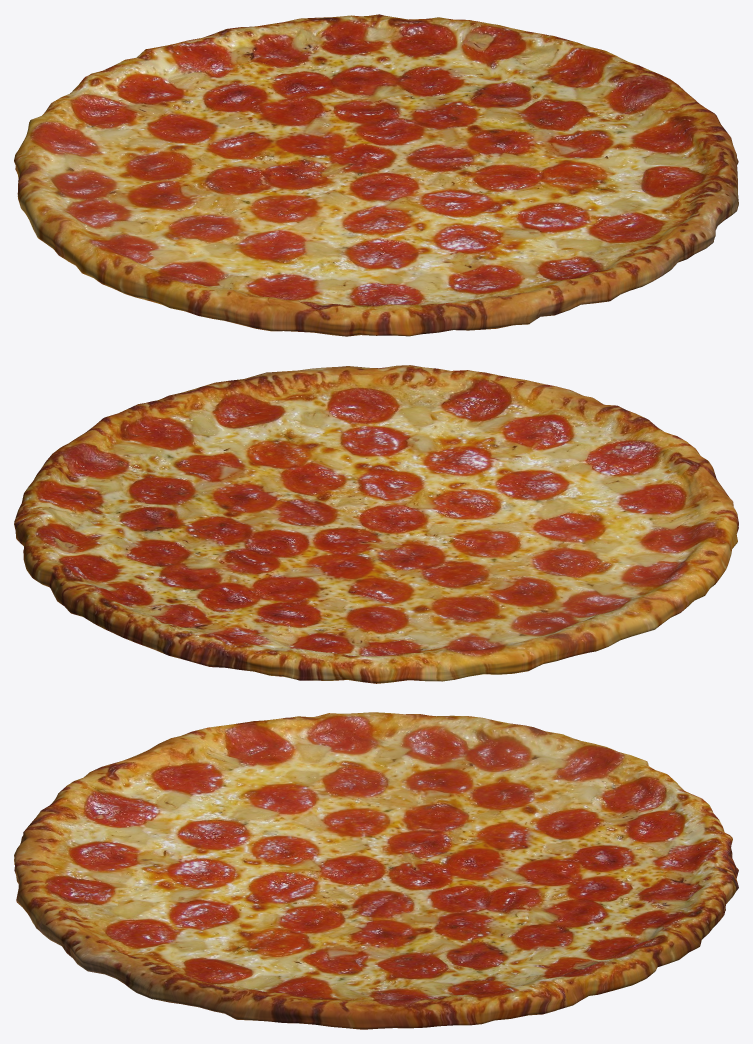
Rendered from pizza.gltf.
3 renders of one model, top to bottom at view 1: azimuth 30°, elevation 25°; view 2: azimuth 150°, elevation 25°; view 3: azimuth 270°, elevation 25°, orthographic.
Visible parts, largest first — view 1: Cylinder01; view 2: Cylinder01; view 3: Cylinder01.
Boxes of the visible parts, x1=… form: Cylinder01: x1=14, y1=14, x2=738, y2=336; Cylinder01: x1=14, y1=365, x2=738, y2=683; Cylinder01: x1=14, y1=712, x2=738, y2=1029.
Size of the model in its own units: 25.99 by 1.19 by 26.09.
1 material, 1 textured.
